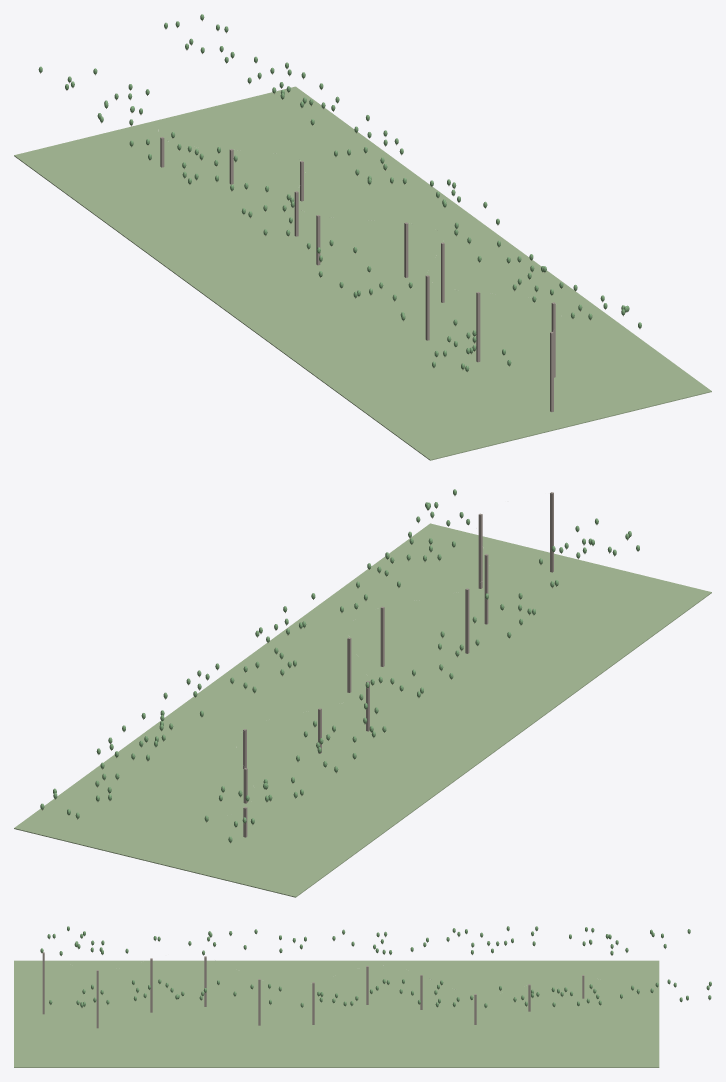
File: serra-do-rio-do-rastro.glb
3 renders of one model, top to bottom at view 1: azimuth 30°, elevation 25°; view 2: azimuth 150°, elevation 25°; view 3: azimuth 270°, elevation 25°, orthographic. The views are drawn at different scales.
Parts seen in each view (by area): view 1: TERRAIN_ground; view 2: TERRAIN_ground; view 3: TERRAIN_ground.
Boxes of the visible parts, <box> form: TERRAIN_ground: <box>14,86,711,460</box>; TERRAIN_ground: <box>14,523,711,897</box>; TERRAIN_ground: <box>14,960,659,1067</box>.
Size of what is drawn, in the model's own units: 340 by 92 by 941.
